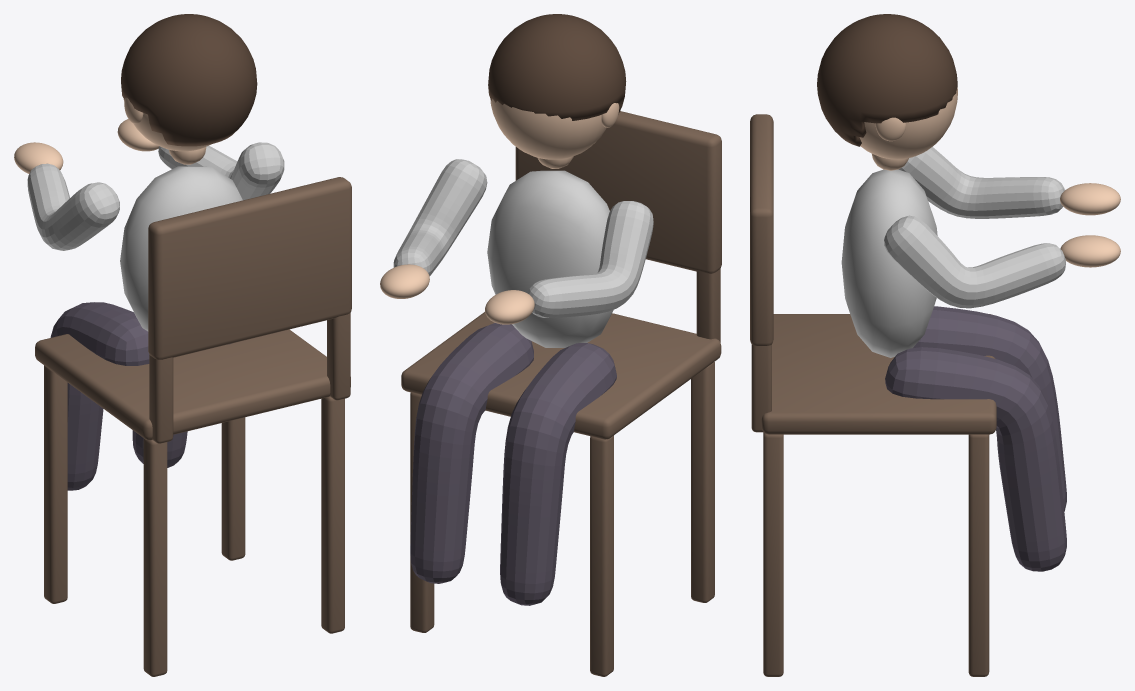
The model's file is bodoge3d.glb.
3 renders of one model, left to right at view 1: azimuth 30°, elevation 25°; view 2: azimuth 150°, elevation 25°; view 3: azimuth 270°, elevation 25°, orthographic. The views are drawn at different scales.
Parts seen in each view (by area): view 1: back, seat, hair, leg, torso, leg.004, leg.005, leg.002, arm, leg.003, arm.001, post (+5 smaller); view 2: leg, leg.001, back, torso, seat, hair, arm, leg.002, leg.004, arm.001, head, leg.003 (+3 smaller); view 3: seat, leg.001, hair, torso, arm.001, arm, leg, back, leg.003, leg.005, head, post.001 (+3 smaller).
Part boxes in pixels (left/top/right/bottom): back: left=148, top=177, right=351, bottom=359; seat: left=35, top=329, right=350, bottom=440; hair: left=121, top=14, right=257, bottom=146; leg: left=50, top=302, right=149, bottom=490; torso: left=120, top=166, right=242, bottom=331; leg.004: left=143, top=438, right=167, bottom=676; leg.005: left=321, top=396, right=344, bottom=633; leg.002: left=44, top=365, right=67, bottom=603; arm: left=27, top=163, right=119, bottom=250; leg.003: left=221, top=417, right=245, bottom=560; arm.001: left=158, top=142, right=284, bottom=200; post: left=149, top=354, right=173, bottom=443; leg: left=500, top=343, right=616, bottom=605; leg.001: left=410, top=323, right=533, bottom=583; back: left=515, top=111, right=721, bottom=273; torso: left=487, top=170, right=613, bottom=347; seat: left=401, top=312, right=721, bottom=439; hair: left=488, top=14, right=626, bottom=120; arm: left=527, top=201, right=653, bottom=317; leg.002: left=590, top=435, right=613, bottom=676; leg.004: left=691, top=362, right=714, bottom=602; arm.001: left=393, top=159, right=487, bottom=275; head: left=490, top=98, right=606, bottom=159; leg.003: left=410, top=392, right=434, bottom=632; seat: left=761, top=314, right=996, bottom=434; leg.001: left=885, top=347, right=1066, bottom=571; hair: left=817, top=14, right=957, bottom=146; torso: left=841, top=169, right=937, bottom=357; arm.001: left=884, top=215, right=1065, bottom=308; arm: left=898, top=147, right=1064, bottom=218; leg: left=913, top=306, right=1066, bottom=511; back: left=750, top=114, right=773, bottom=345; leg.003: left=968, top=434, right=989, bottom=676; leg.005: left=763, top=432, right=783, bottom=676; head: left=859, top=87, right=957, bottom=159; post.001: left=751, top=344, right=771, bottom=432.
Bounding box in the file's own units: 44.27 × 114 × 63.2.
